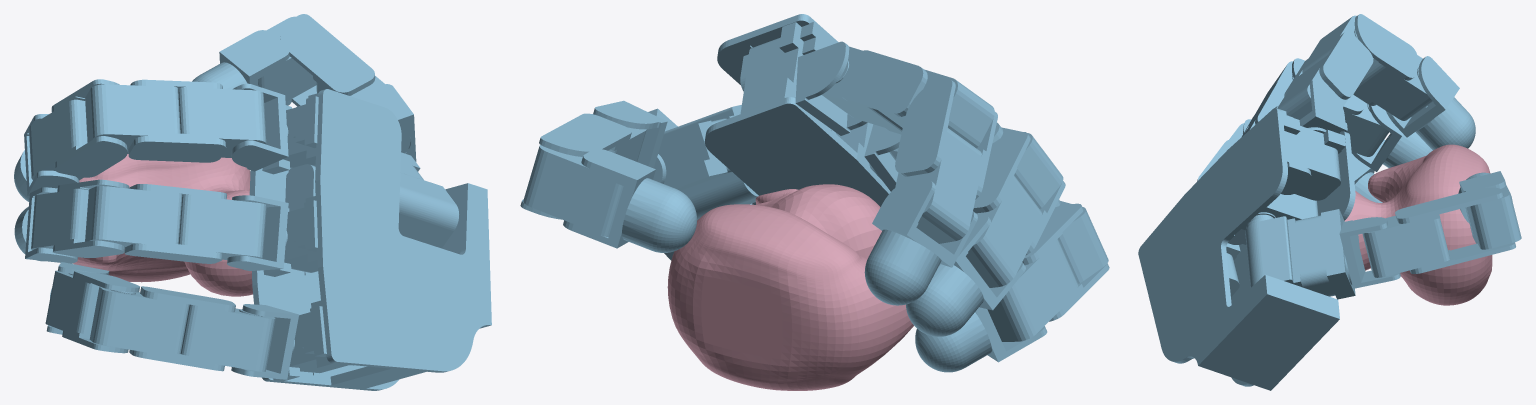
3 views of the same model, side by side, from view 1: azimuth 30°, elevation 25°; view 2: azimuth 150°, elevation 25°; view 3: azimuth 270°, elevation 25° (orthographic). The views are drawn at different scales.
Visible parts, largest first — view 1: world; view 2: world; view 3: world.
Boxes of the visible parts, x1,y1,x2,y2 form: world: (14, 14, 491, 390); world: (520, 14, 1109, 390); world: (1138, 14, 1521, 390).
Size of the model in its own units: 0.1907 by 0.1391 by 0.1757.
